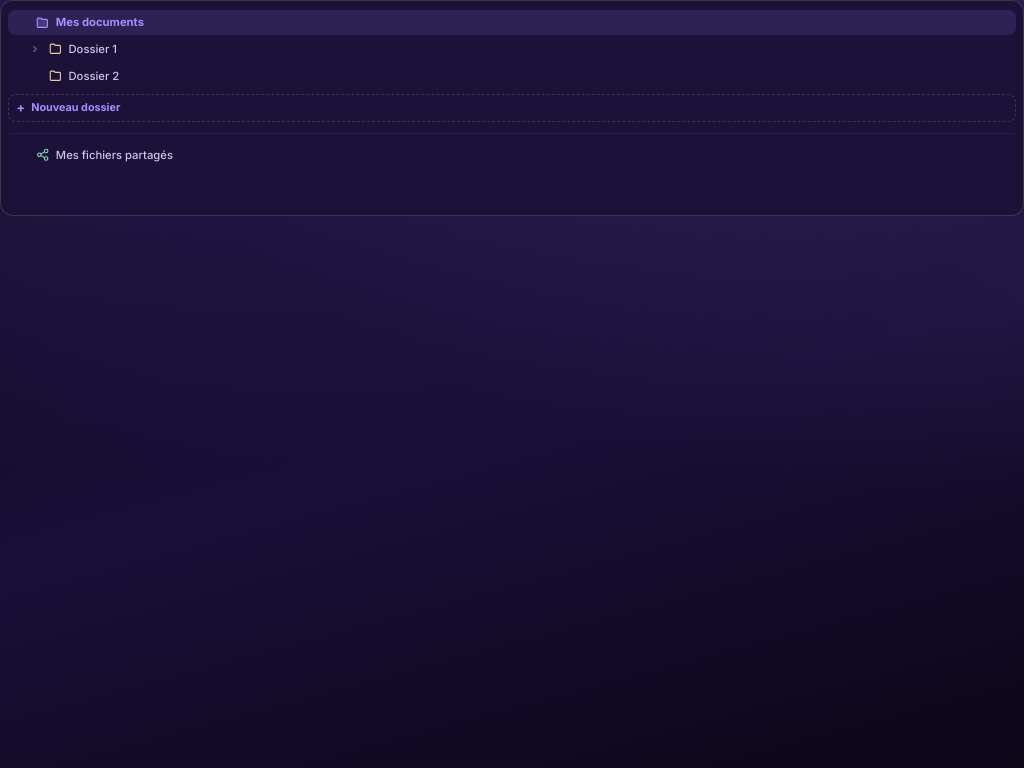
Scenario: PanneauDossiers › déplie un dossier sans l’ouvrir : le chevron et la ligne sont deux gestes distincts
This screenshot has width=1024, height=768.
Click the button named "Déplier". click: point(35, 49)
box: [28,42,42,56]
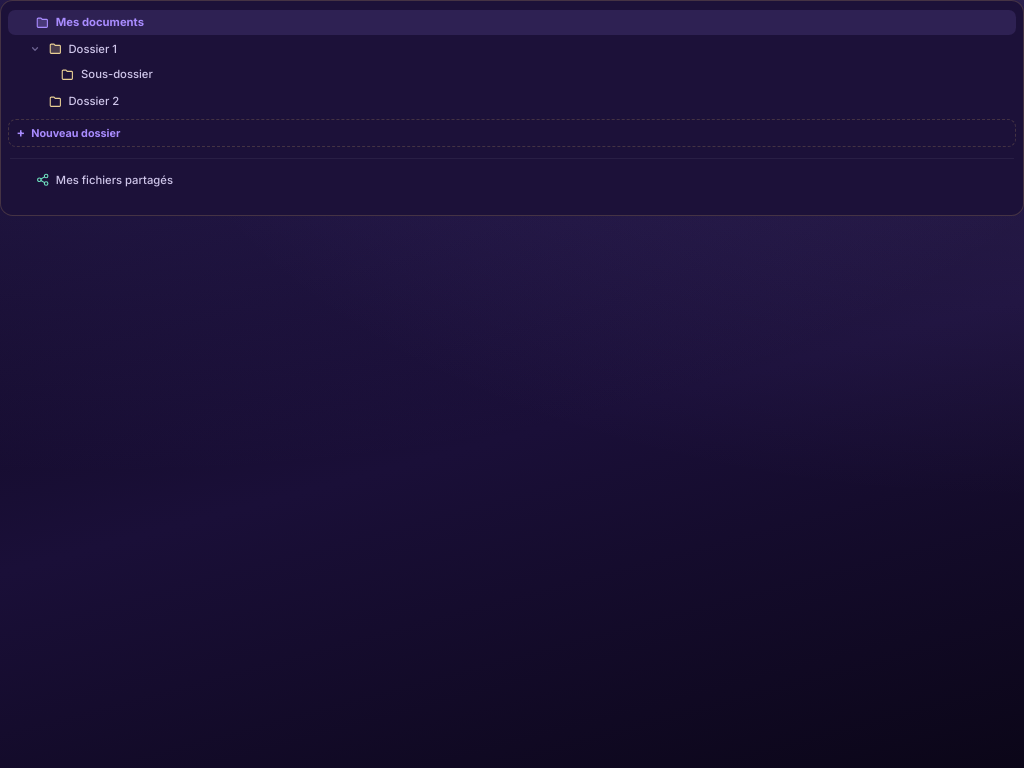
Expected: the text "Sous-dossier" is shown, [81,67,153,81]
